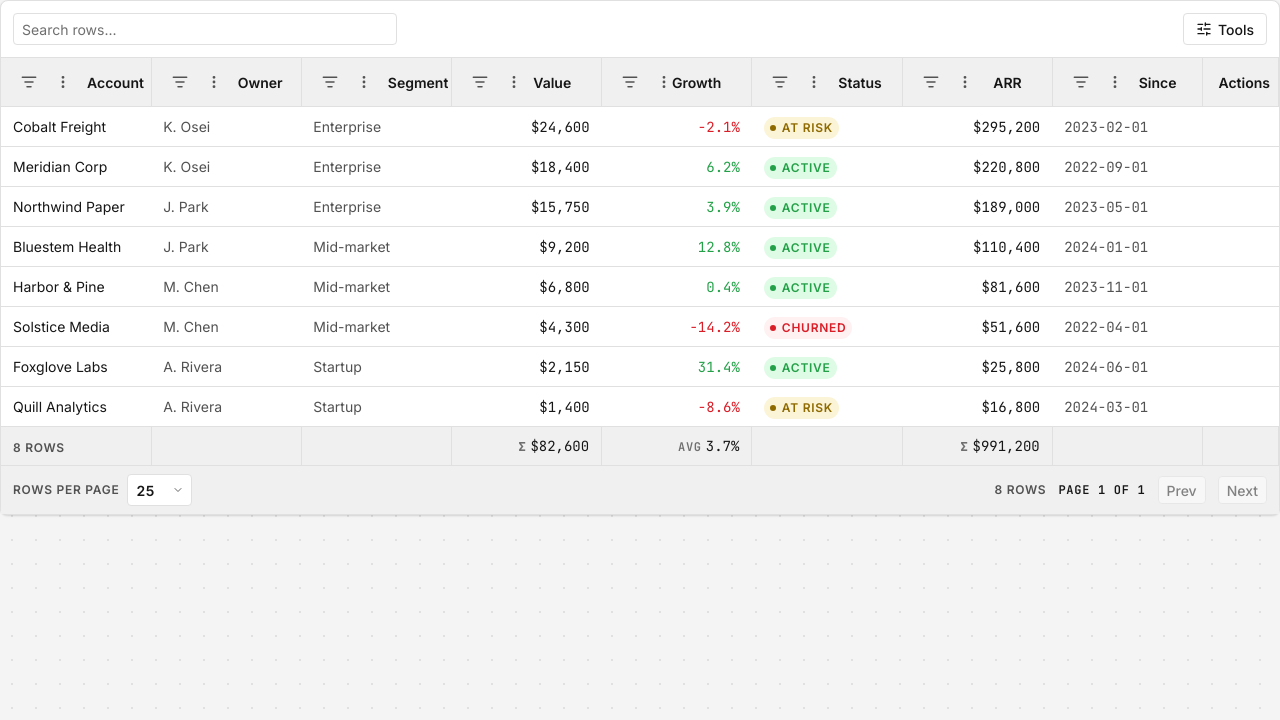
Test: column-menu per-column filter › filters enum columns through the menu
Click the button named "segment column menu".
click(364, 82)  # box [348,66,380,98]
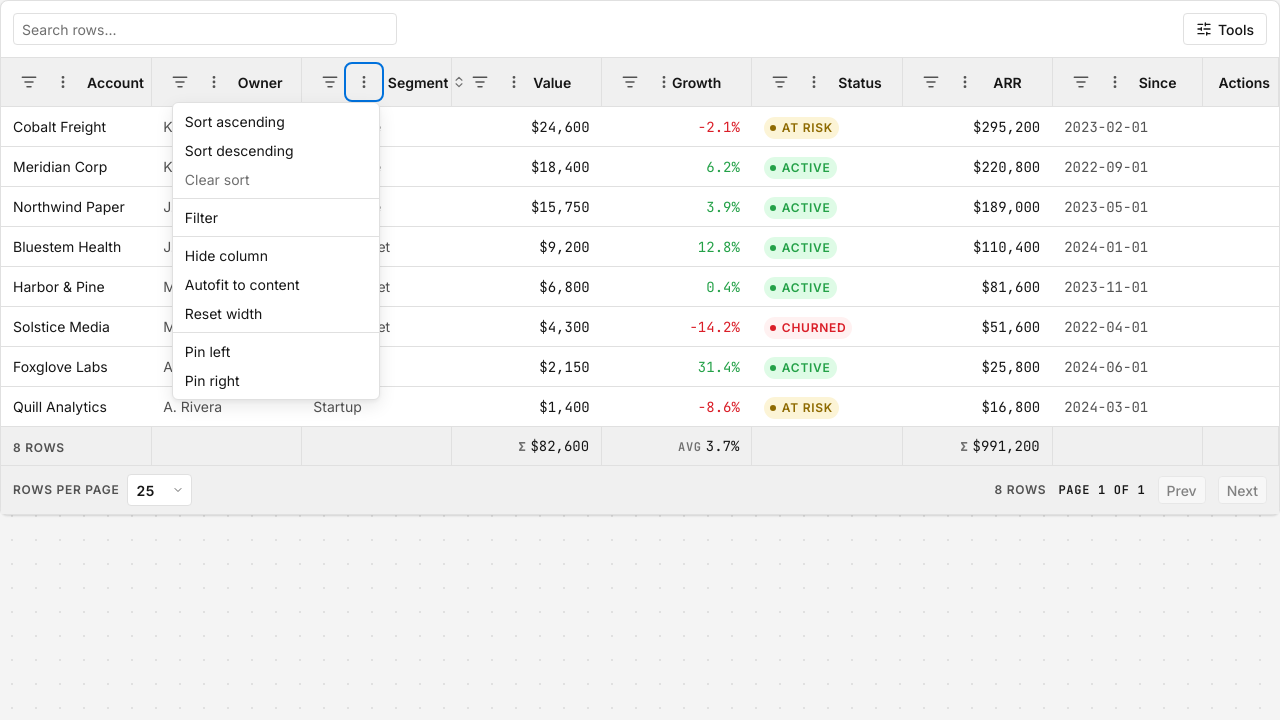
Click the menu item "Filter".
click(276, 218)  # box [173,203,379,232]
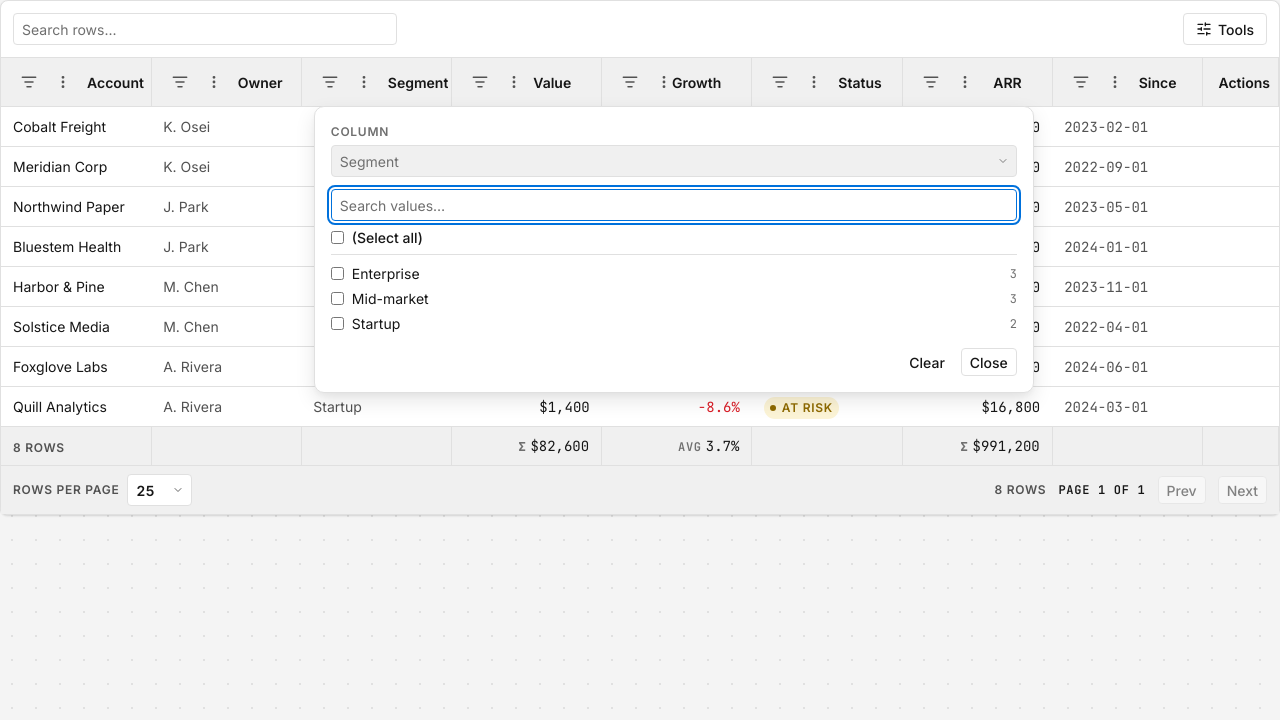
Click the checkbox labelled "Startup".
click(337, 324)  # box [331,317,344,330]
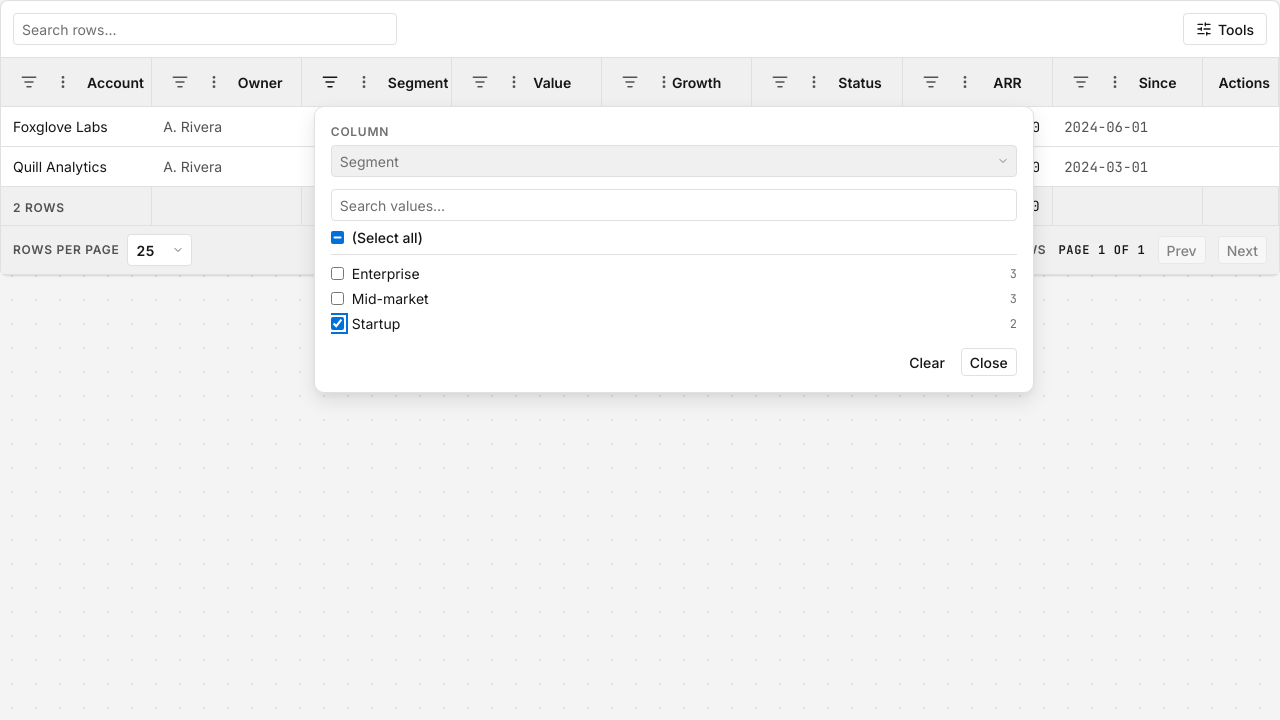
Expected: the text "Foxglove Labs" is shown, [13,118,108,135]
Result: the text "Cobalt Freight" is gone
